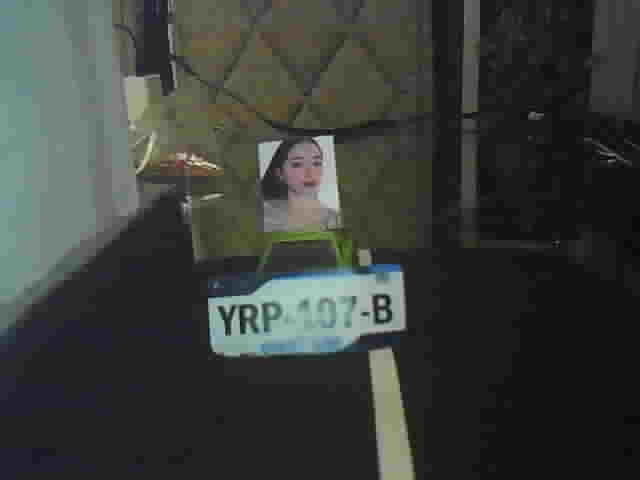PLACA: (205, 262, 408, 361)
ROSTRO: (261, 141, 341, 230)
